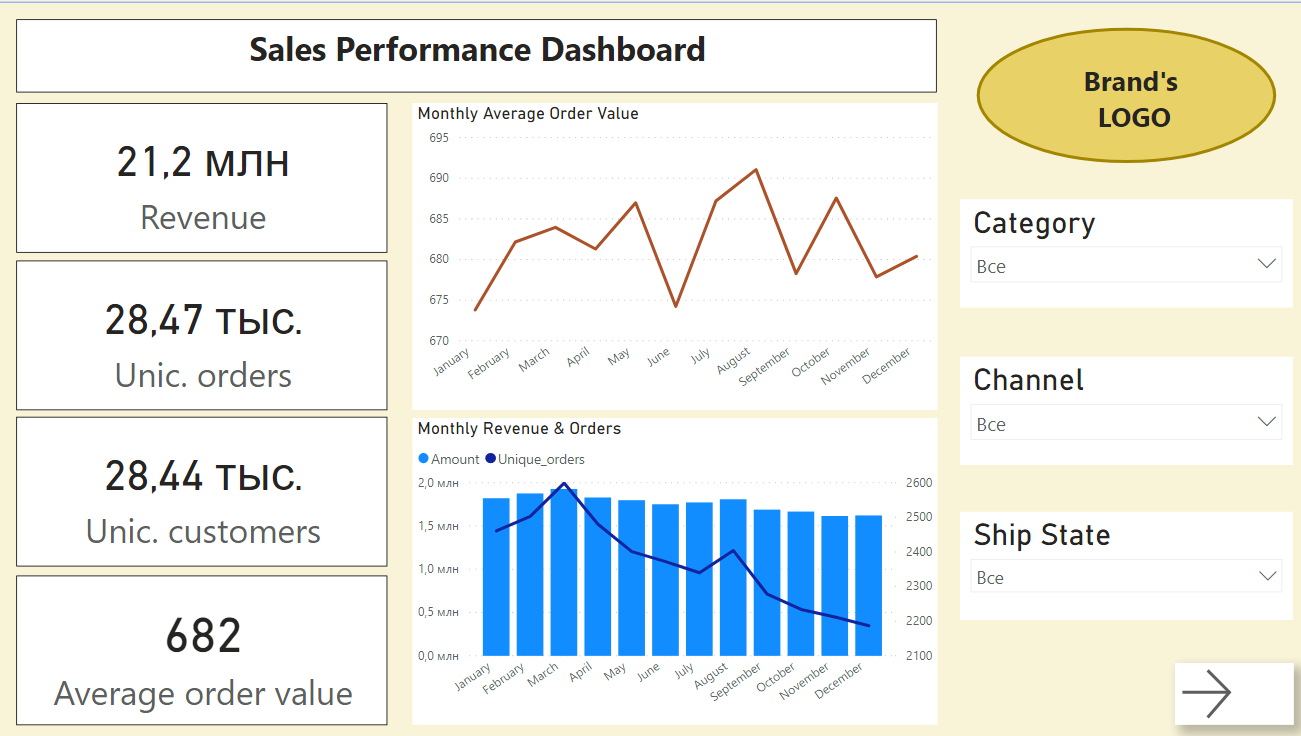

The dashboard page shown, as its layout file describes it:
{"tool":"powerbi","page":{"name":"Страница 1","canvas":[1280,720],"ordinal":0},"visuals":[{"type":"card","fields":{"Values":["Sum(SwiftCart_Store.Amount)"]},"box":[16.5,98.9,365,147],"z":0},{"type":"card","fields":{"Values":["SwiftCart_Store.Мера 2"]},"box":[16.5,253.5,365,147],"z":1000},{"type":"card","fields":{"Values":["SwiftCart_Store.Unic_cust"]},"box":[16.5,406.8,365,147],"z":2000},{"type":"card","fields":{"Values":["SwiftCart_Store.AOV"]},"box":[16.5,562.7,365,147],"z":3000},{"type":"textbox","box":[16.5,16.5,904.9,72.2],"z":4000},{"type":"lineClusteredColumnComboChart","title":"Monthly Revenue & Orders","fields":{"Category":["SwiftCart_Store.Month"],"Y":["Sum(SwiftCart_Store.Amount)"],"Y2":["SwiftCart_Store.Unique_orders"]},"box":[405.5,408.1,515.8,301.6],"z":5000},{"type":"lineChart","title":"Monthly Average Order Value","fields":{"Category":["SwiftCart_Store.Month"],"Y":["SwiftCart_Store.AOV"]},"box":[405.5,98.9,515.8,301.6],"z":6000},{"type":"slicer","fields":{"Values":["SwiftCart_Store.Category"]},"box":[944.2,192.6,327,106.5],"z":7000},{"type":"slicer","fields":{"Values":["SwiftCart_Store.Channel "]},"box":[944.2,347.2,327,106.5],"z":8000},{"type":"slicer","fields":{"Values":["SwiftCart_Store.Ship State"]},"box":[944.2,500.6,327,106.5],"z":9000},{"type":"basicShape","title":"ЛОГО","box":[944.2,16.5,327,149.5],"z":10000},{"type":"textbox","box":[1015.1,53.2,200.2,84.9],"z":11000},{"type":"actionButton","box":[1154.5,648.9,116.6,60.8],"z":12000}]}

Visuals, with their boxes in screenshot pixels (x1, y1, x2, y2), scaled from the page's 1280x720 canvas onto the 1301x736 screenshot:
card - Sum(SwiftCart_Store.Amount): x1=17, y1=101, x2=388, y2=251
card - SwiftCart_Store.Мера 2: x1=17, y1=259, x2=388, y2=409
card - SwiftCart_Store.Unic_cust: x1=17, y1=416, x2=388, y2=566
card - SwiftCart_Store.AOV: x1=17, y1=575, x2=388, y2=725
textbox: x1=17, y1=17, x2=937, y2=91
"Monthly Revenue & Orders" lineClusteredColumnComboChart: x1=412, y1=417, x2=936, y2=725
"Monthly Average Order Value" lineChart: x1=412, y1=101, x2=936, y2=409
slicer - SwiftCart_Store.Category: x1=960, y1=197, x2=1292, y2=306
slicer - SwiftCart_Store.Channel : x1=960, y1=355, x2=1292, y2=464
slicer - SwiftCart_Store.Ship State: x1=960, y1=512, x2=1292, y2=621
"ЛОГО" basicShape: x1=960, y1=17, x2=1292, y2=170
textbox: x1=1032, y1=54, x2=1235, y2=141
actionButton: x1=1173, y1=663, x2=1292, y2=725
